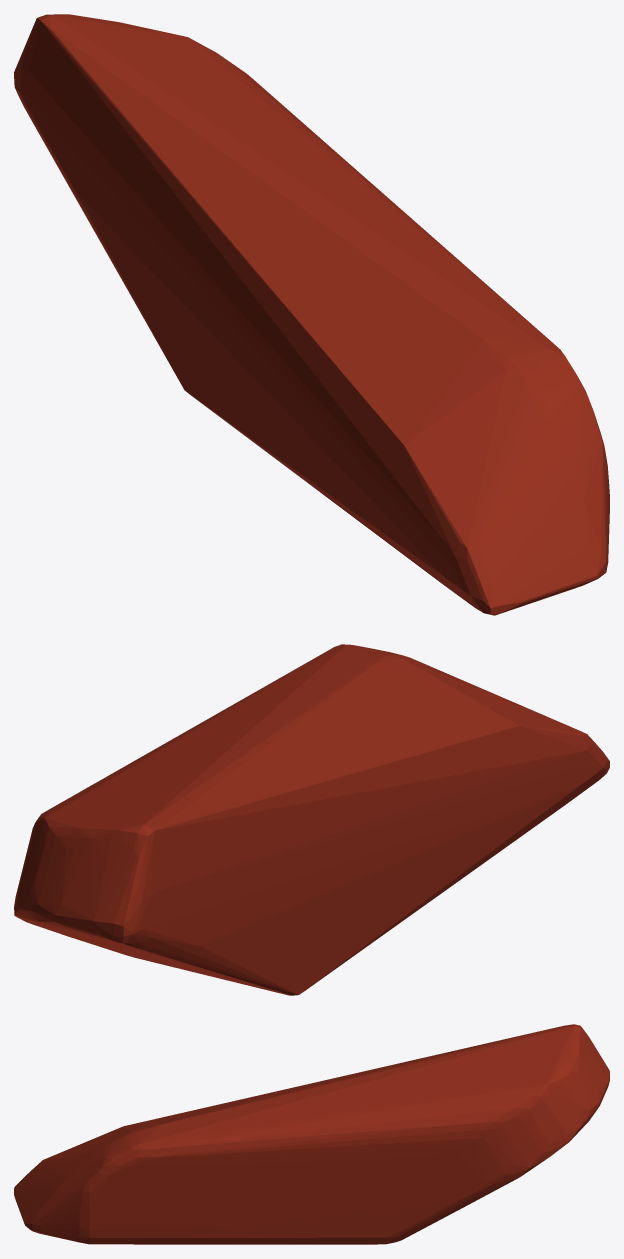
The model's file is right-toe-roll-0_part_15.obj.
The picture shows the model from 3 angles, top to bottom: view 1: azimuth 30°, elevation 25°; view 2: azimuth 150°, elevation 25°; view 3: azimuth 270°, elevation 25°; orthographic projection. The views are drawn at different scales.
Bounding box in the file's own units: 0.0229 × 0.0332 × 0.1032.
